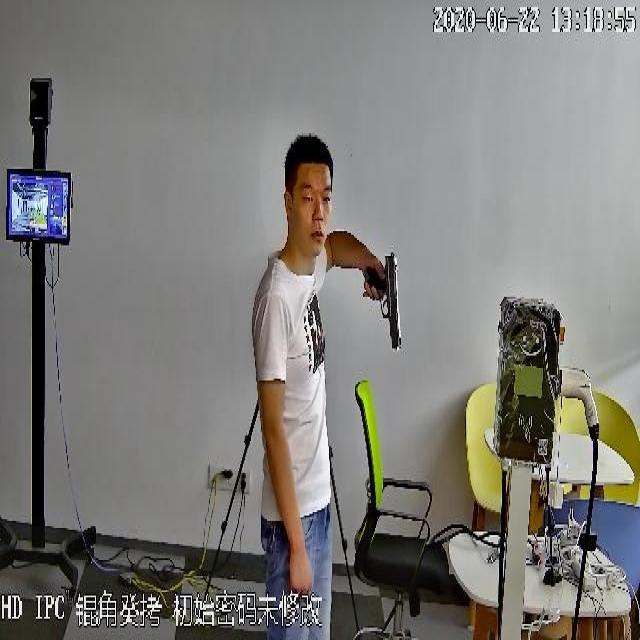pistol: (366, 247, 406, 353)
